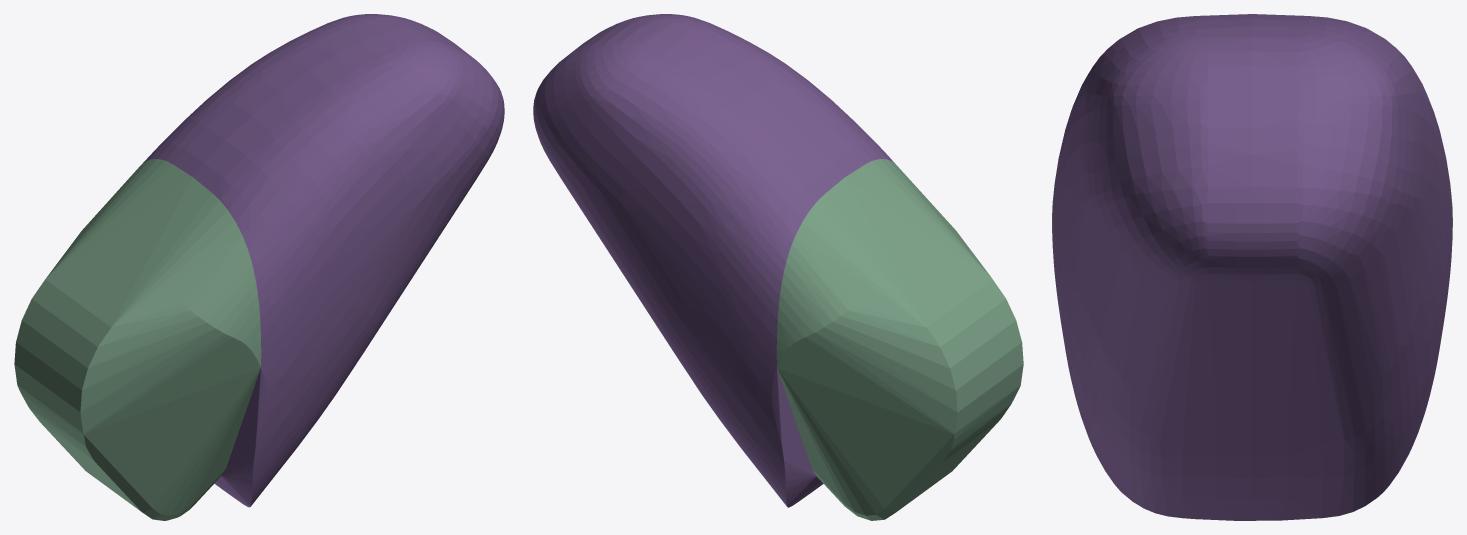
Rendered from right_thumb_distal.obj.
The picture shows the model from 3 angles, left to right: view 1: azimuth 30°, elevation 25°; view 2: azimuth 150°, elevation 25°; view 3: azimuth 270°, elevation 25°; orthographic projection. The views are drawn at different scales.
Visible parts, largest first — view 1: geometry_1, geometry_0; view 2: geometry_1, geometry_0; view 3: geometry_1.
Boxes of the visible parts, x1,y1,x2,y2 form: geometry_1: [143, 14, 504, 507]; geometry_0: [14, 159, 261, 520]; geometry_1: [533, 14, 894, 507]; geometry_0: [776, 159, 1023, 520]; geometry_1: [1052, 14, 1452, 520].
Size of the model in its own units: 0.0273 by 0.0244 by 0.0147.
